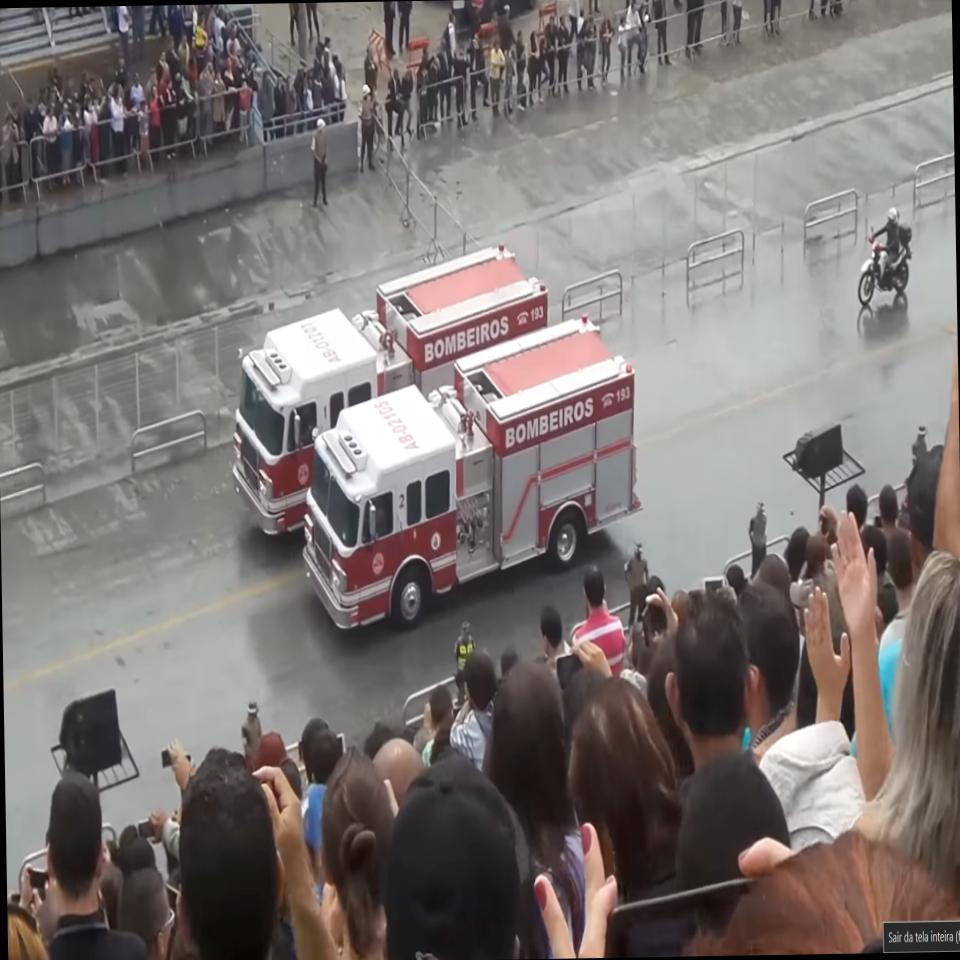viatura: (298, 313, 647, 631), (228, 242, 552, 537)
